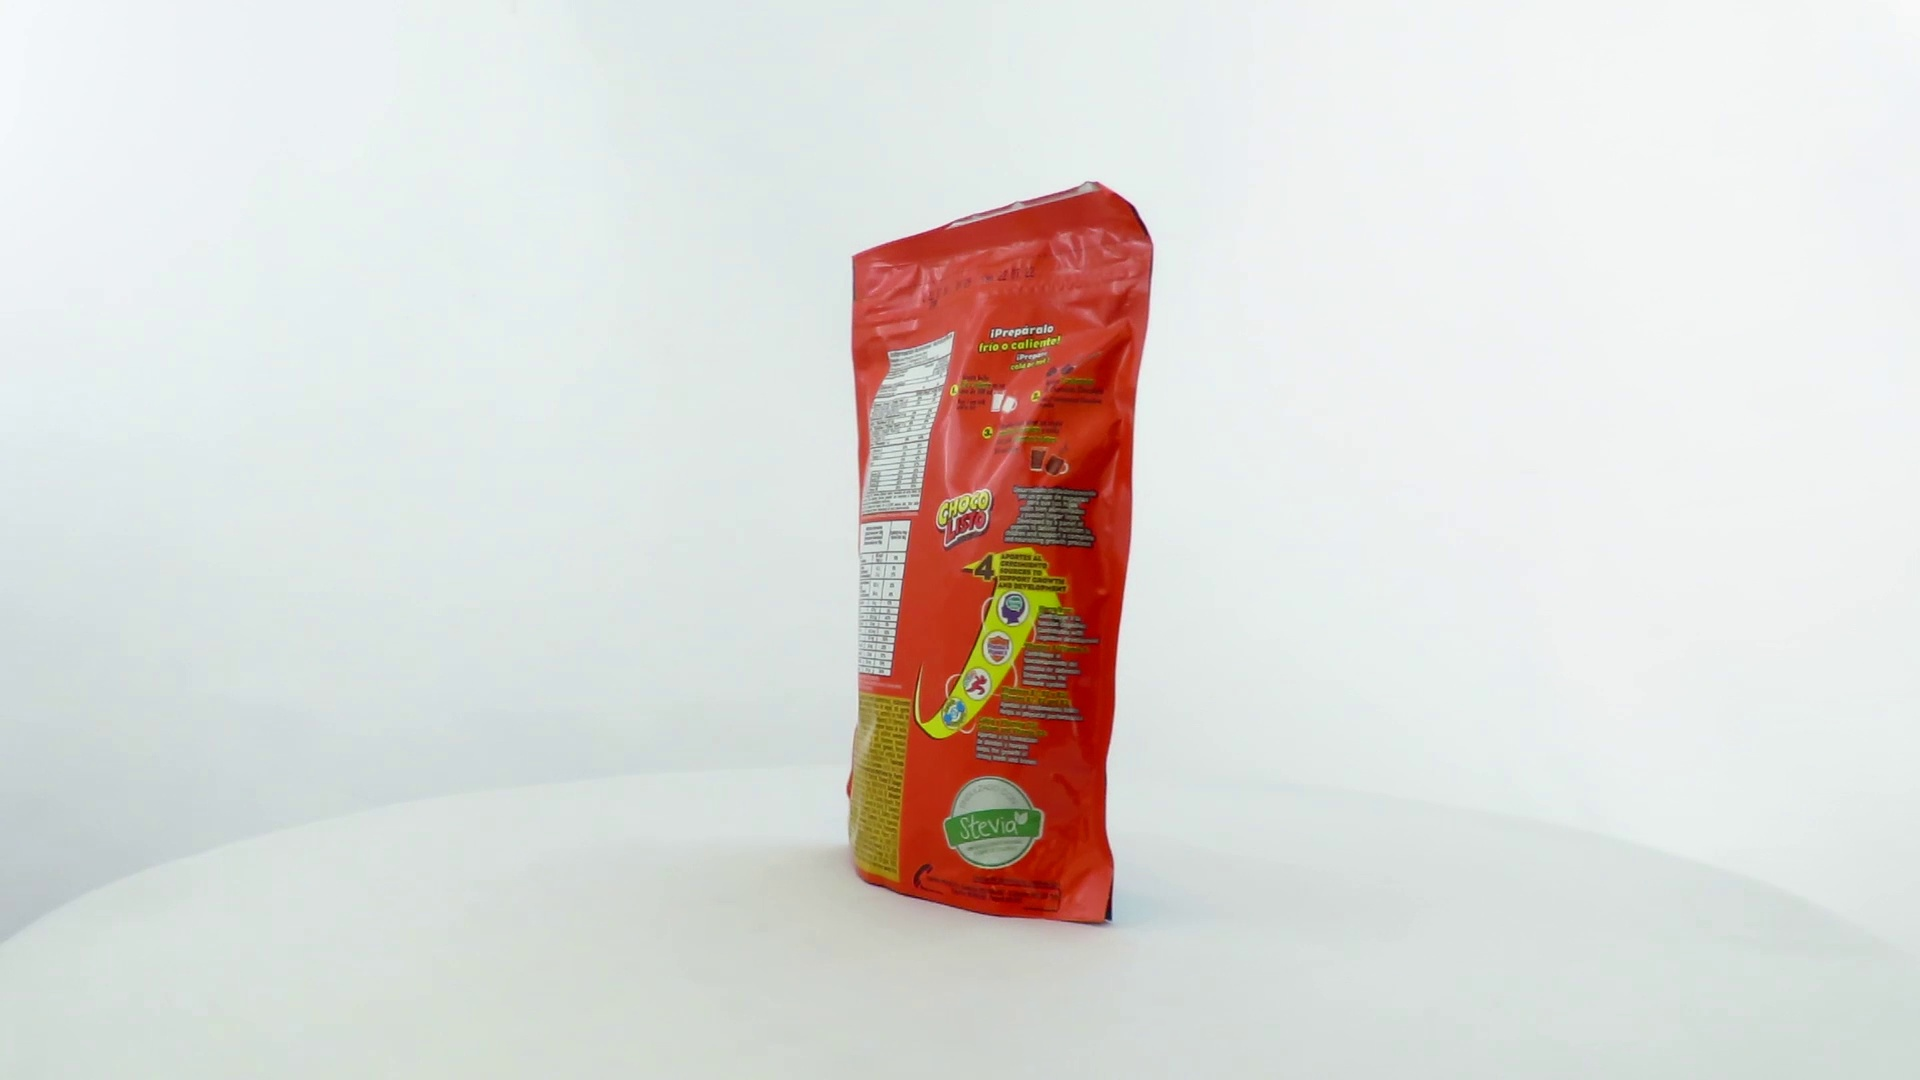COL0170104DYP20000: (824, 175, 1160, 934)
